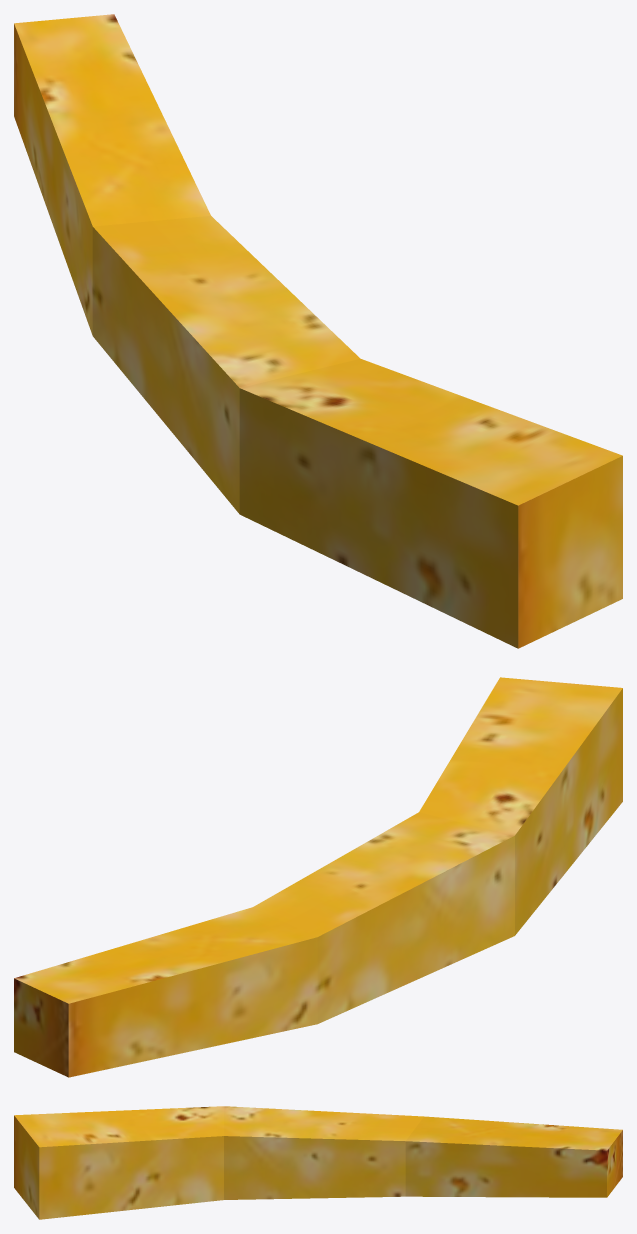
File: CheeseFlake2.fbx
3 renders of one model, top to bottom at view 1: azimuth 30°, elevation 25°; view 2: azimuth 150°, elevation 25°; view 3: azimuth 270°, elevation 25°, orthographic. The views are drawn at different scales.
Visible parts, largest first — view 1: CheeseFlake2; view 2: CheeseFlake2; view 3: CheeseFlake2.
Part boxes in pixels (x1,y1,x2,y2): CheeseFlake2: [14, 14, 622, 648]; CheeseFlake2: [14, 677, 622, 1077]; CheeseFlake2: [14, 1106, 622, 1219].
Size of the model in its own units: 2.34 by 1.43 by 9.66.
Materials: 1 (1 with a texture image).
